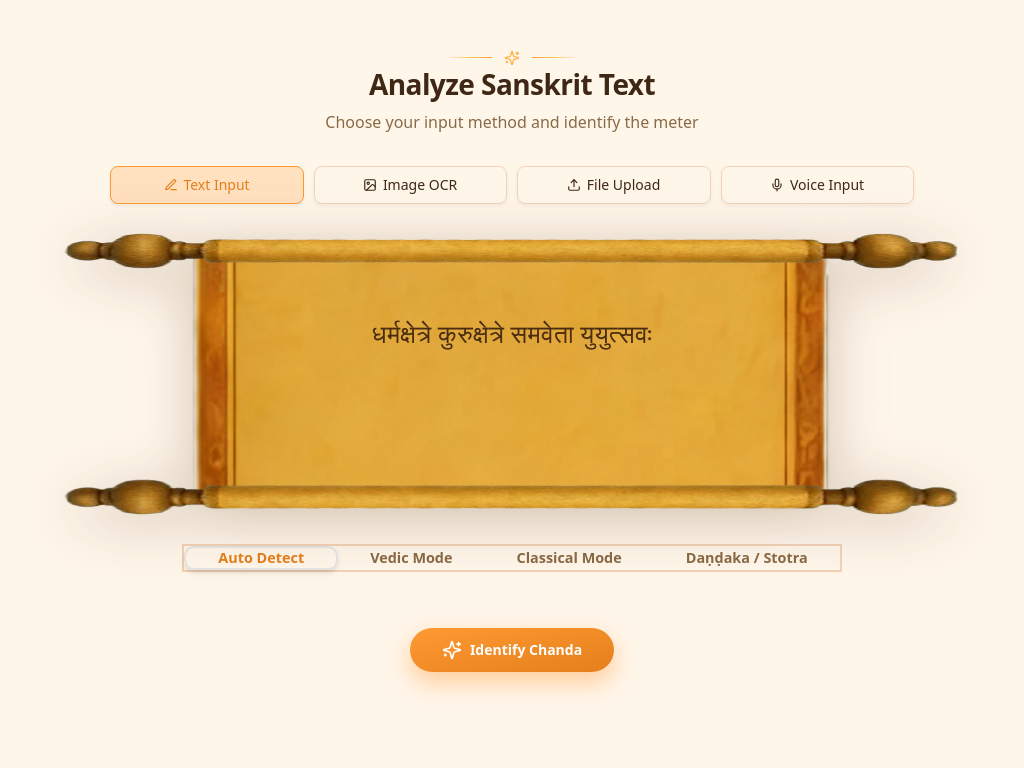
Test: AnalysisForm text tab › shows the API error under the form
Click the button "Identify Chanda" at (512, 650), box [410, 628, 614, 672]
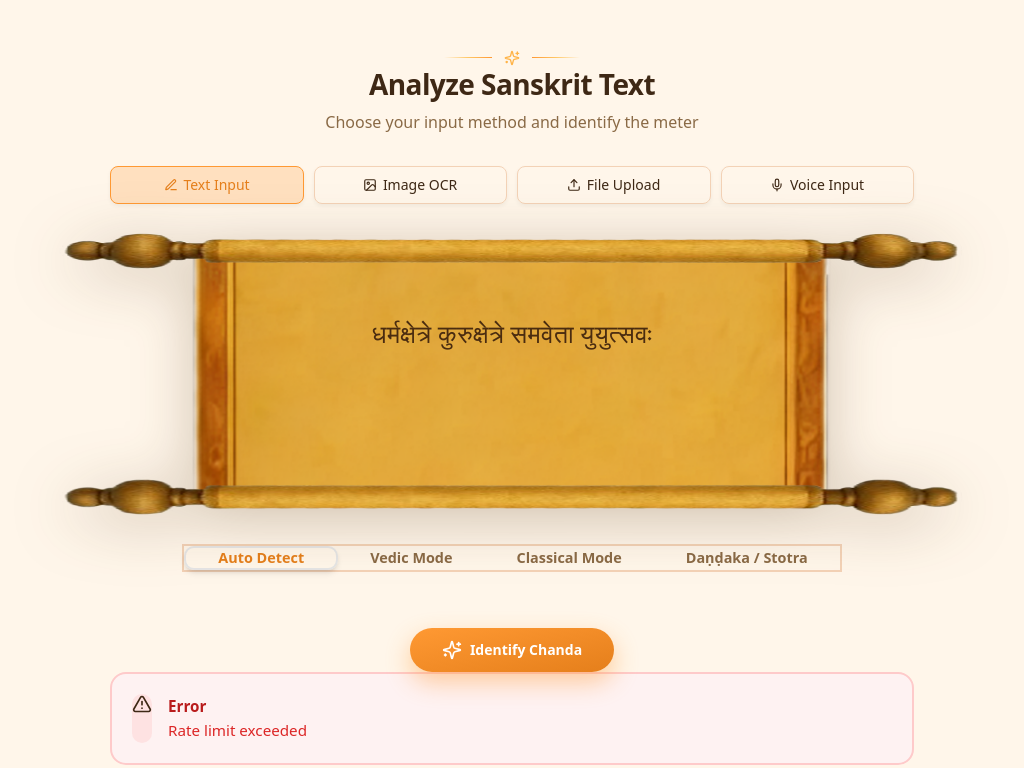
Result: the text "Rate limit exceeded" is shown at [168, 718, 307, 743]
